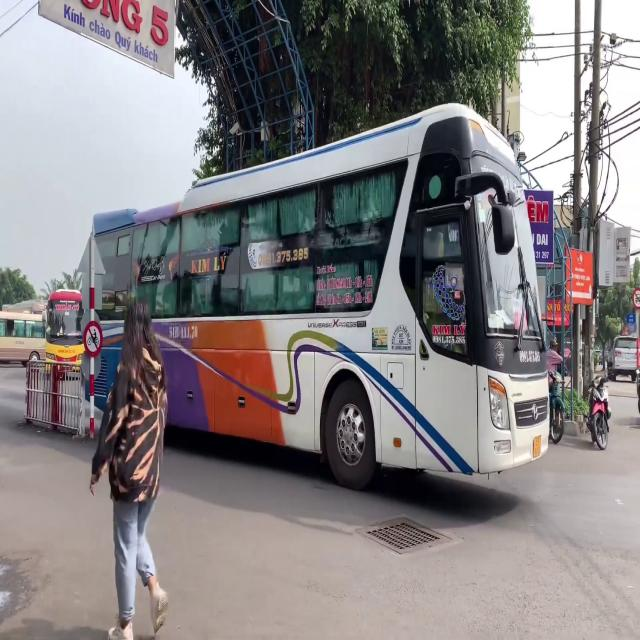bien_vang: (533, 434, 541, 458)
